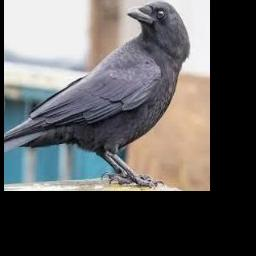Crow: (4, 2, 191, 188)
